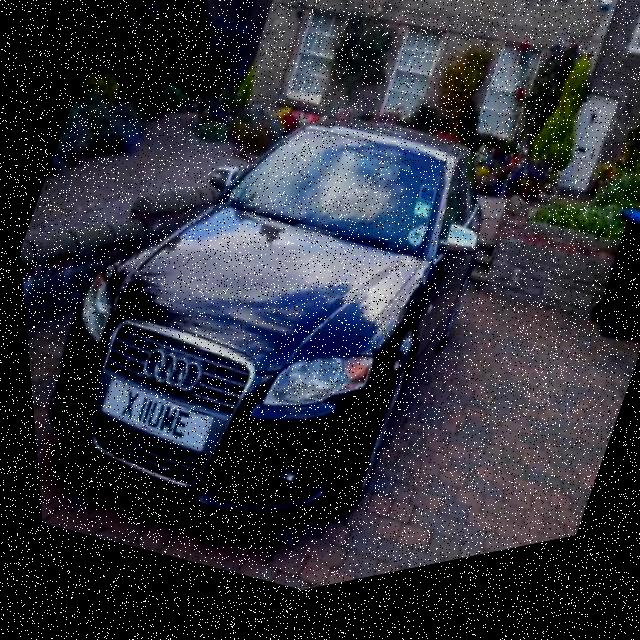license_plate: (85, 366, 214, 476)
